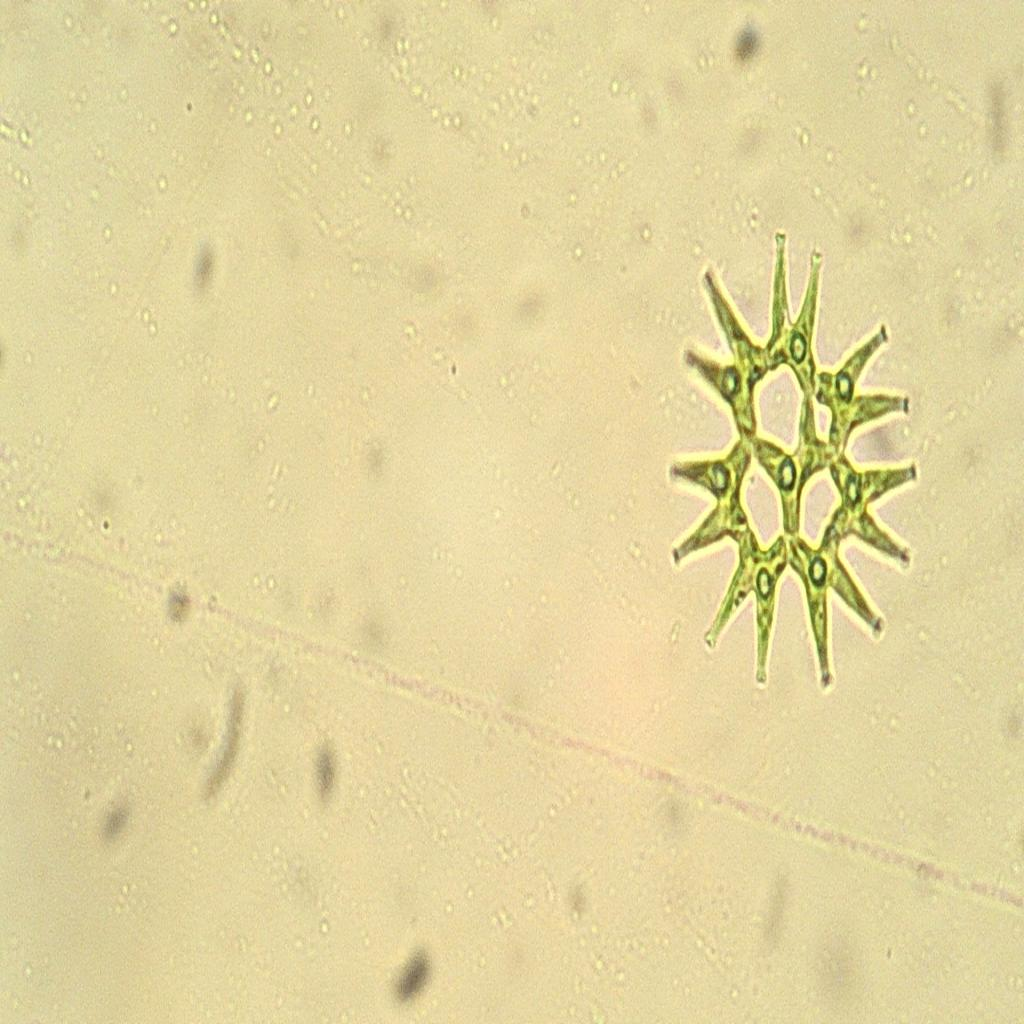Pediastrum_CTH: (658, 188, 928, 720)
